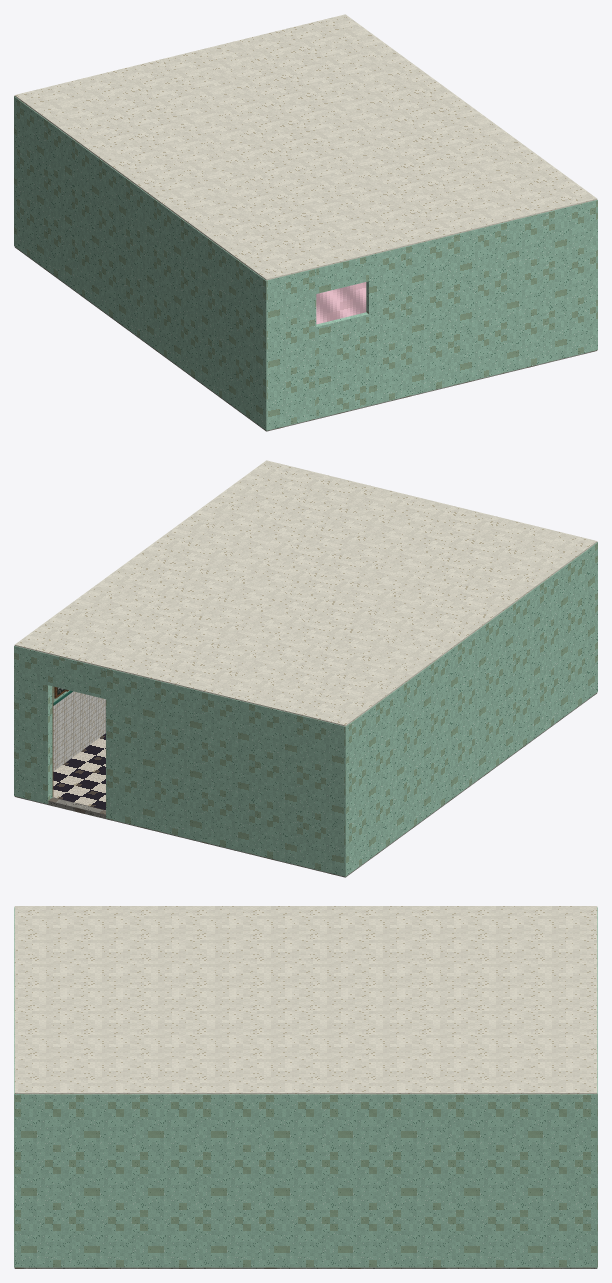
The model's file is s_bev_room.glb.
3 views of the same model, one above another, from view 1: azimuth 30°, elevation 25°; view 2: azimuth 150°, elevation 25°; view 3: azimuth 270°, elevation 25° (orthographic). The views are drawn at different scales.
Parts seen in each view (by area): view 1: s_bev_room_mesh; view 2: s_bev_room_mesh; view 3: s_bev_room_mesh.
Part boxes in pixels (<box>): s_bev_room_mesh: <box>14,14,597,431</box>; s_bev_room_mesh: <box>14,460,597,877</box>; s_bev_room_mesh: <box>14,906,597,1268</box>.
Size of what is drawn, in the model's own units: 6.3 by 2.76 by 8.3.
24 materials, 20 textured.
